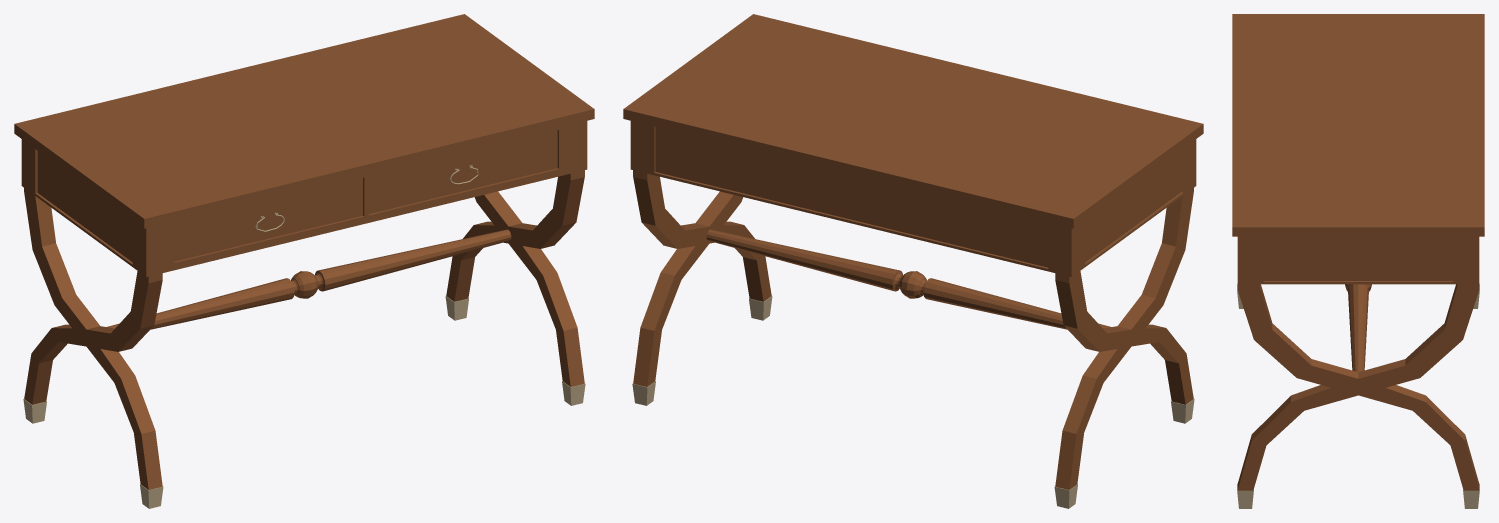
File: table-by-cmht-oculus-61749QyJUoo.glb
The picture shows the model from 3 angles, left to right: view 1: azimuth 30°, elevation 25°; view 2: azimuth 150°, elevation 25°; view 3: azimuth 270°, elevation 25°; orthographic projection. The views are drawn at different scales.
Visible parts, largest first — view 1: Node; view 2: Node; view 3: Node.
Part boxes in pixels (left/top/right/bottom): Node: left=14, top=14, right=594, bottom=508; Node: left=623, top=14, right=1203, bottom=508; Node: left=1232, top=14, right=1484, bottom=508.
Size of the model in its own units: 48 by 30 by 24.
